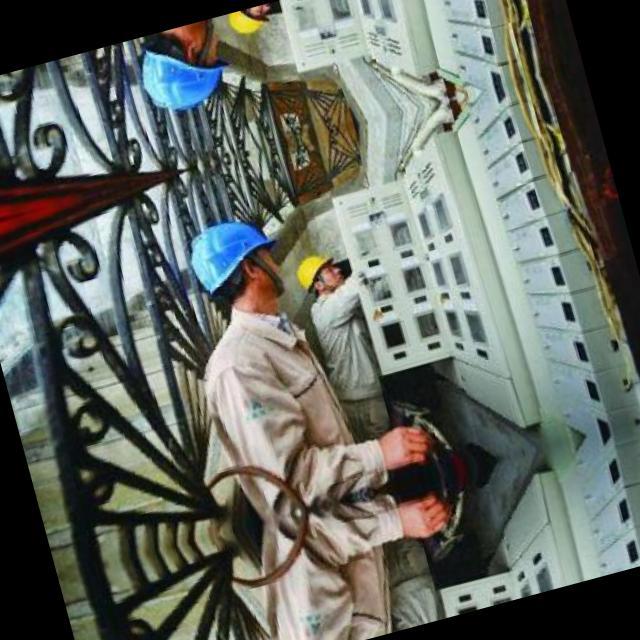helmet: (162, 203, 292, 334), (111, 17, 238, 131), (284, 242, 350, 304), (219, 1, 282, 47)
